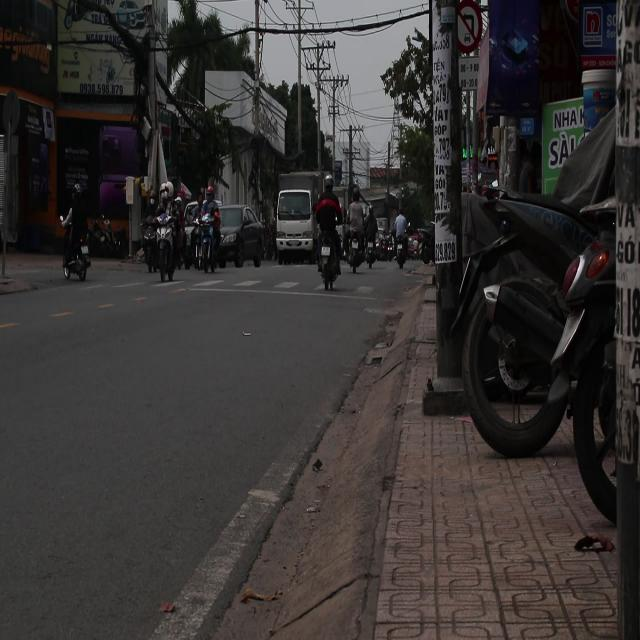car: (212, 204, 266, 268)
motorbike: (52, 210, 98, 296), (311, 206, 341, 299), (337, 209, 372, 286), (146, 213, 179, 283), (136, 199, 159, 289), (358, 209, 384, 281), (187, 216, 218, 274), (388, 220, 411, 286)
truck: (273, 174, 324, 266)
